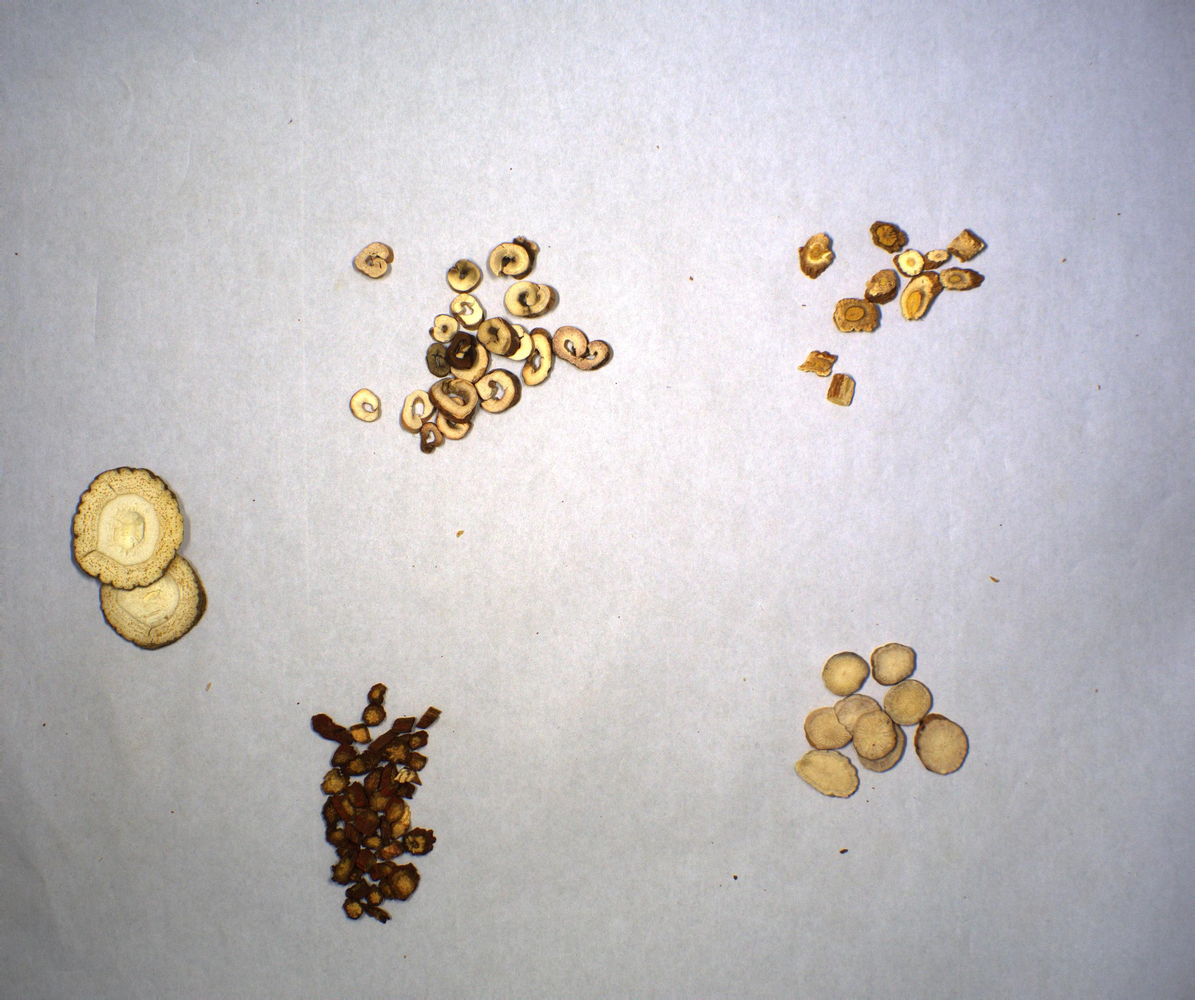baishao: (784, 641, 974, 800)
baizhi: (63, 464, 207, 649)
banlangen: (796, 221, 989, 407)
danshen: (306, 682, 442, 934)
mudanpi: (343, 237, 611, 452)
